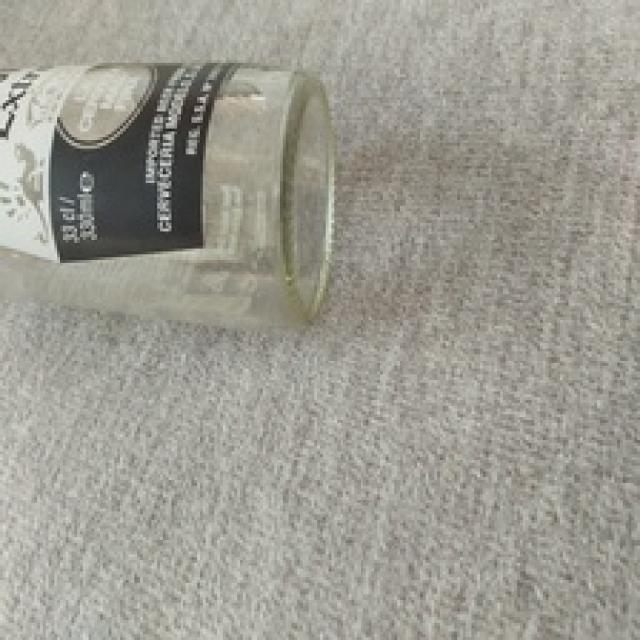Glass: (0, 60, 339, 322)
